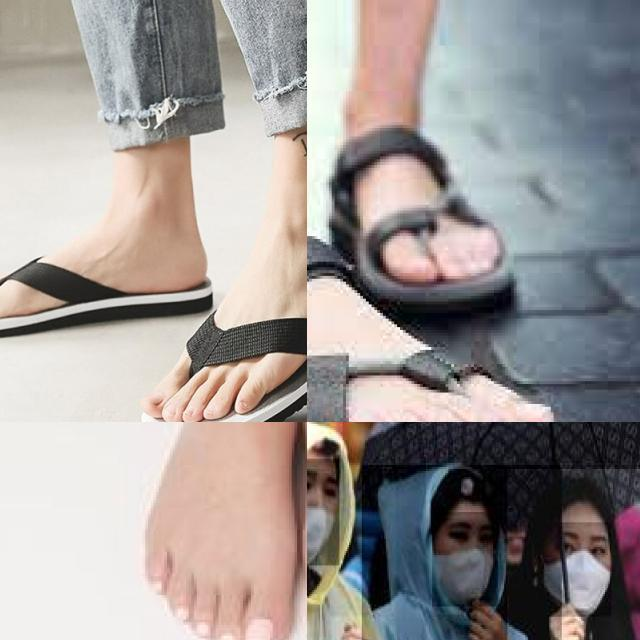Barefoots: (143, 422, 307, 640)
Sandals: (307, 195, 570, 422), (143, 193, 307, 422), (0, 233, 216, 329)
face_mask: (538, 522, 611, 617), (432, 512, 498, 607), (307, 458, 341, 567)
hand_noglove: (465, 596, 515, 640), (544, 602, 590, 640), (331, 616, 385, 640)
head_nohelmet: (426, 469, 493, 520), (538, 482, 613, 526), (307, 422, 344, 460)
person: (362, 465, 562, 640), (507, 469, 640, 640), (307, 422, 395, 640)
